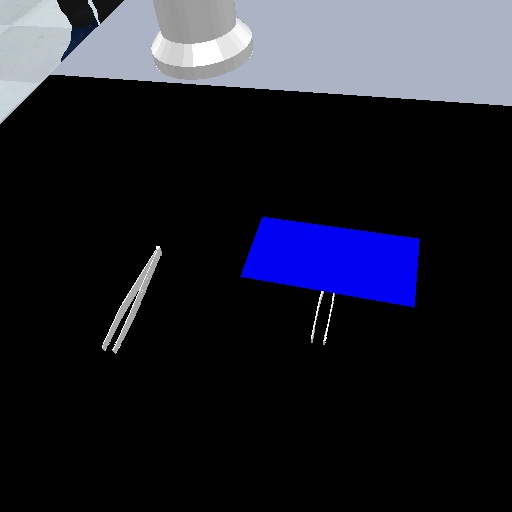pinza: (99, 242, 168, 357), (308, 288, 337, 348)
